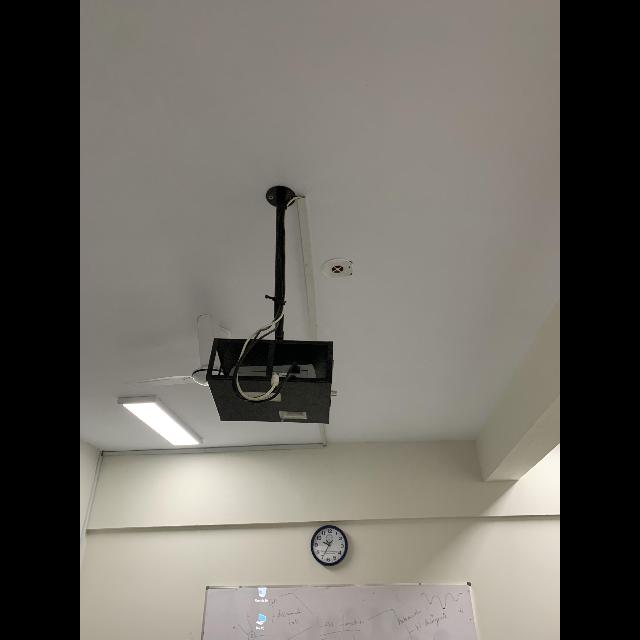Projector: (206, 338, 334, 424)
